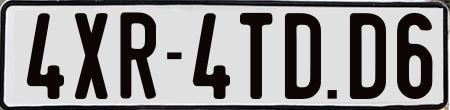4: (25, 10, 68, 99), (192, 13, 232, 103)
6: (397, 11, 434, 103)
D: (350, 12, 389, 104), (284, 10, 323, 98)
R: (119, 9, 160, 99)
T: (238, 12, 273, 98)
X: (75, 11, 108, 98)
